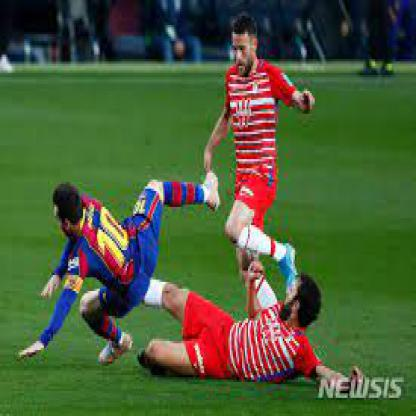Fall_Down: (17, 167, 222, 368)
